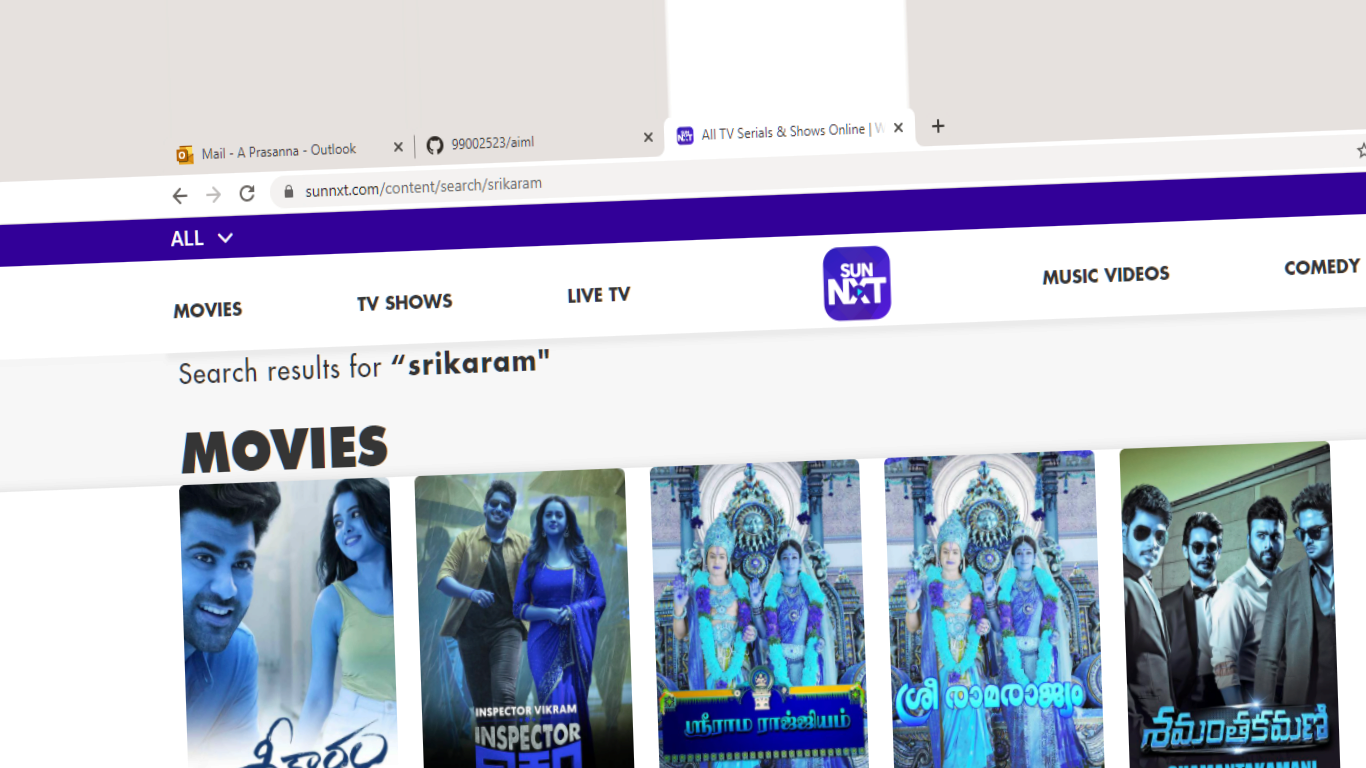resultsfound: (163, 342, 589, 404)
